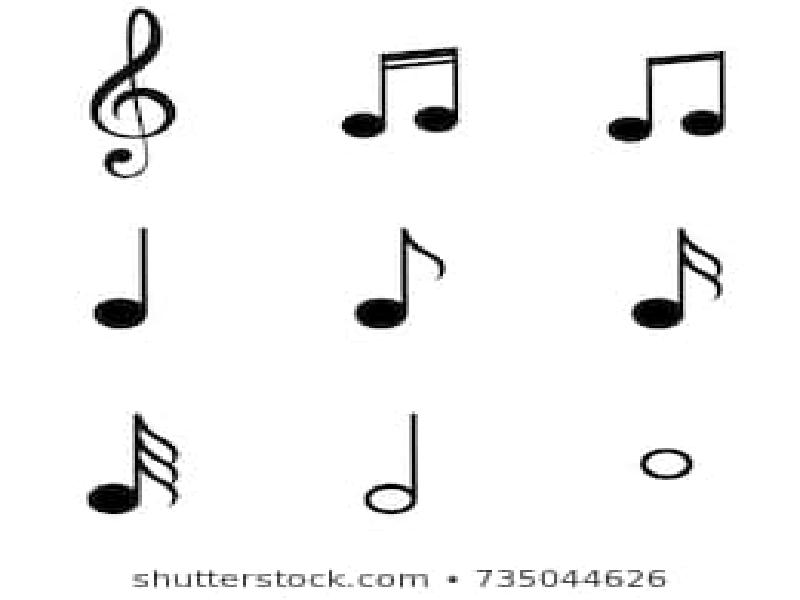B: (361, 411, 430, 520)
C: (353, 228, 450, 334), (676, 41, 736, 139), (609, 43, 663, 148)
CS: (90, 3, 178, 177)
N: (88, 229, 159, 330)
R: (638, 440, 697, 482)
SC: (633, 227, 725, 332), (339, 45, 409, 142), (410, 32, 469, 139)
